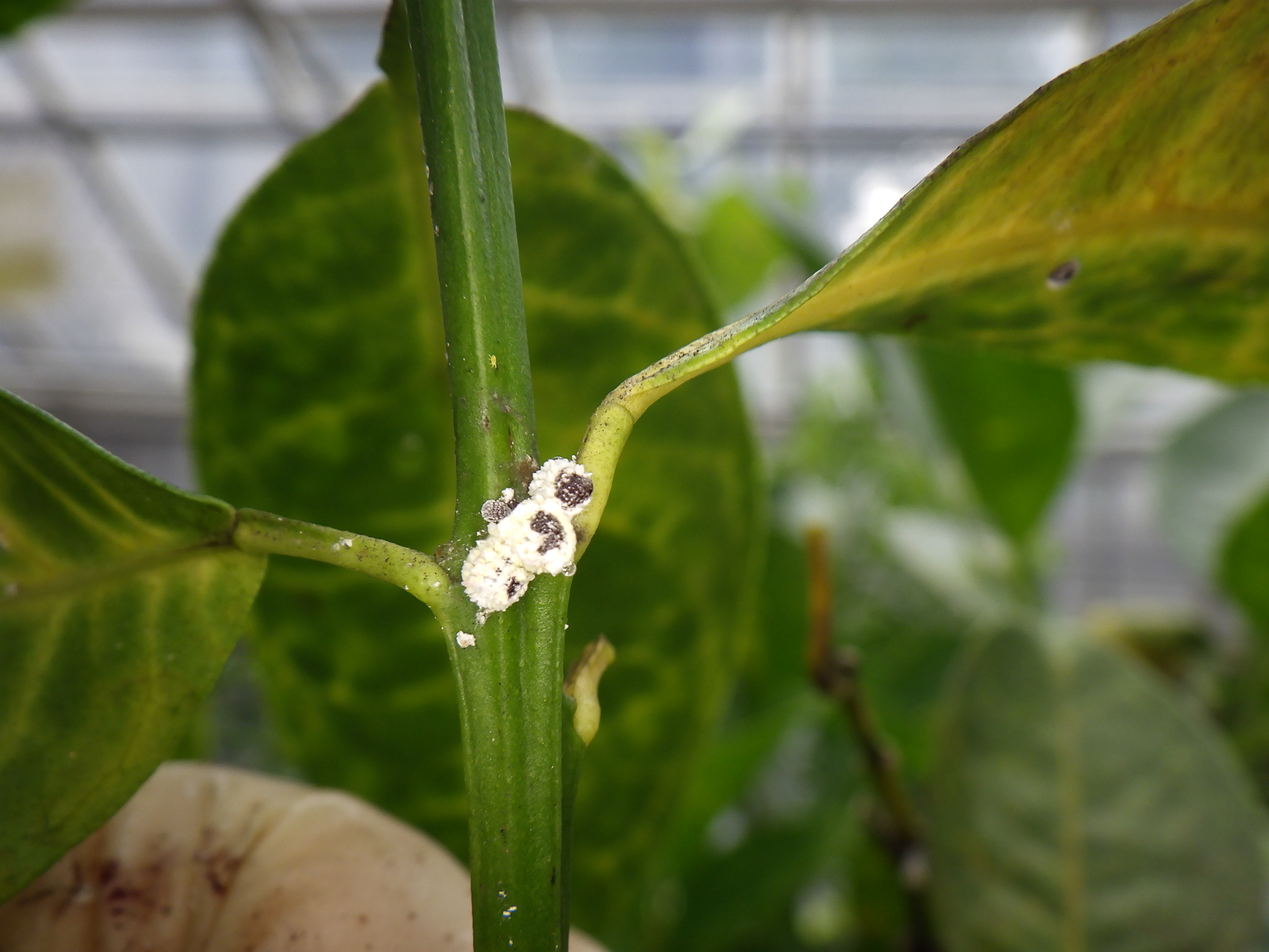Scale_Insect: (462, 458, 593, 619)
